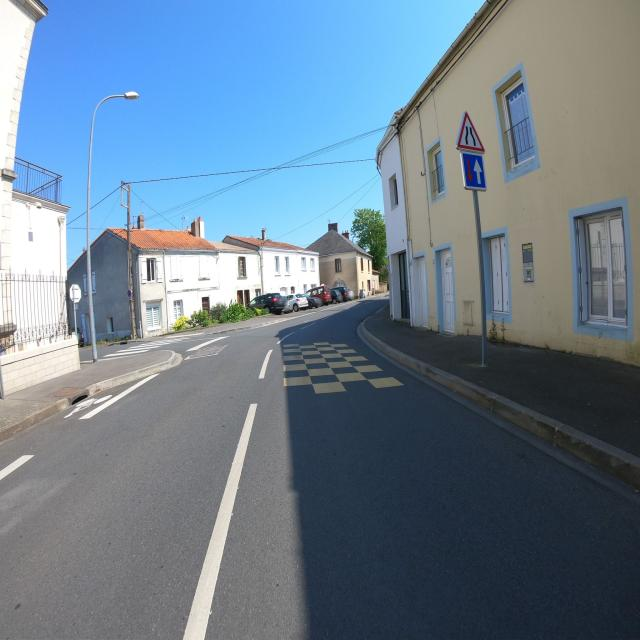forb_stopping: (127, 290, 131, 297)
